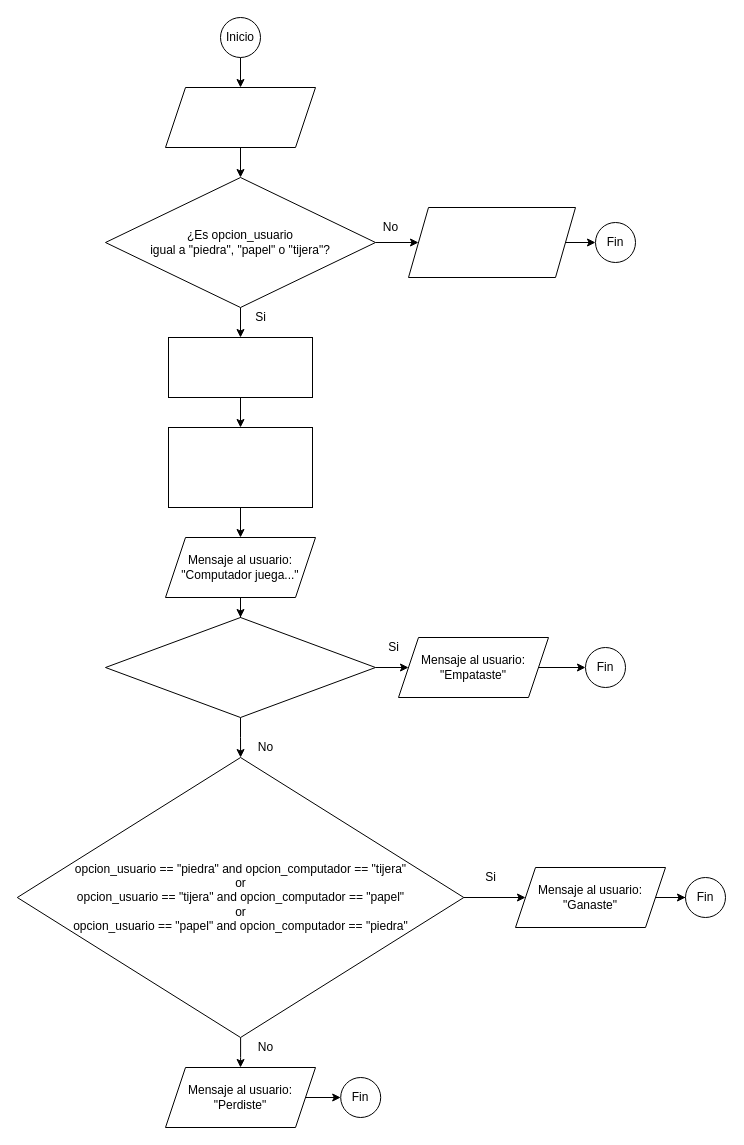
The diagram is 744 pixels wide and 1145 high, and some of its shapes have lost their labels. Each missing label, with the centre of its shape:
Genera la opción del computador: point 240,367
Genera número random y asigna: 1 = "piedra 2 = "papel" 3 = "tijera": point 240,467
Lee opcion_usuario: point 240,117
Mensaje al usuario: "Argumento inválido: Debe ser piedra, papel o tijera": point 492,242
¿La opción del usuario es la misma que la opción del computador?: point 240,667
